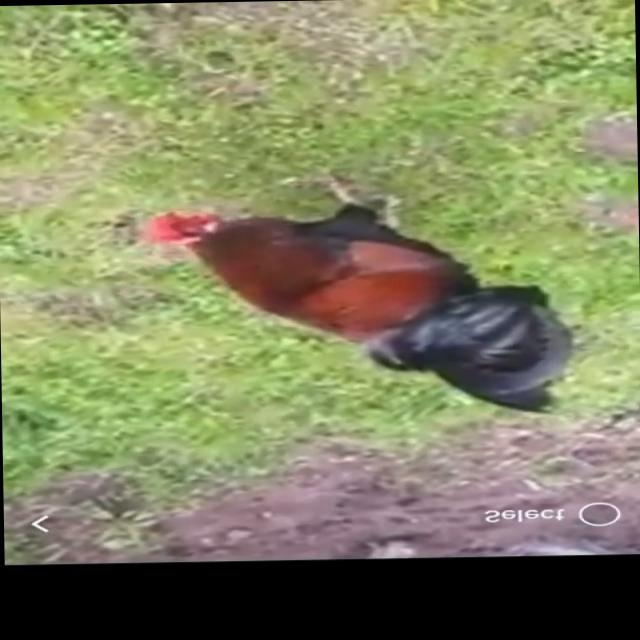feeding: (134, 156, 572, 418)
